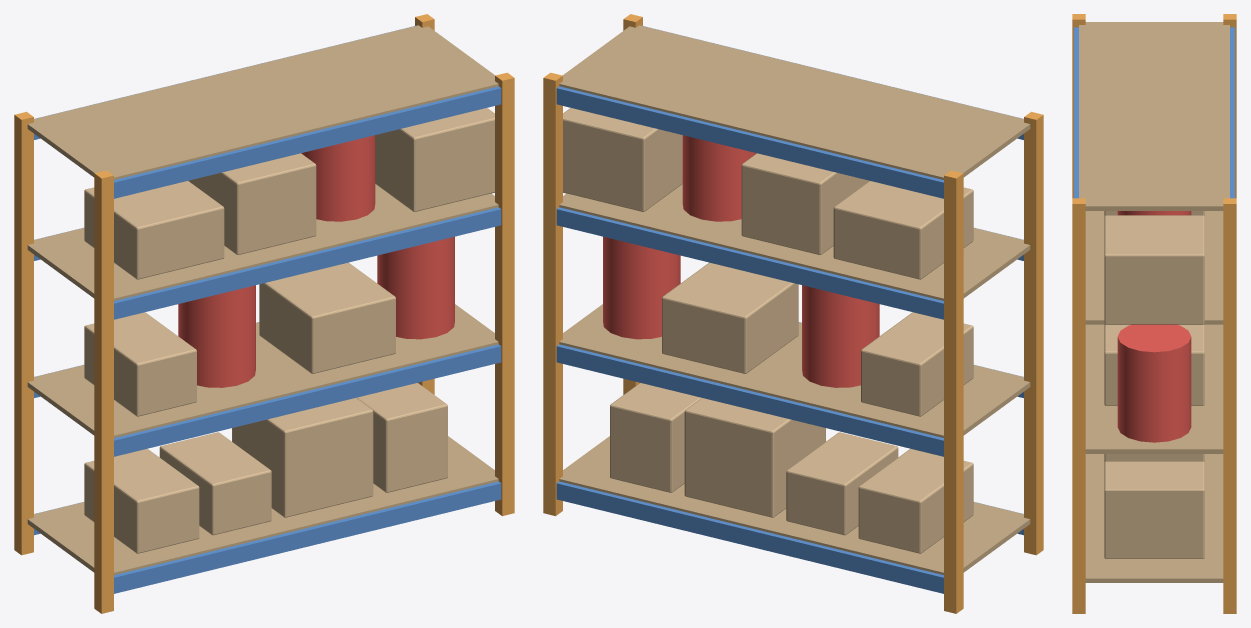
File: Estanteria.fbx
3 renders of one model, left to right at view 1: azimuth 30°, elevation 25°; view 2: azimuth 150°, elevation 25°; view 3: azimuth 270°, elevation 25°, orthographic. The views are drawn at different scales.
Parts seen in each view (by area): view 1: Cuerpo; view 2: Cuerpo; view 3: Cuerpo.
Part boxes in pixels (x1,y1,x2,y2): Cuerpo: (14,14,514,613); Cuerpo: (543,14,1043,613); Cuerpo: (1072,14,1236,613).
Bounding box in the file's own units: 2.7 × 2.7 × 0.98.
